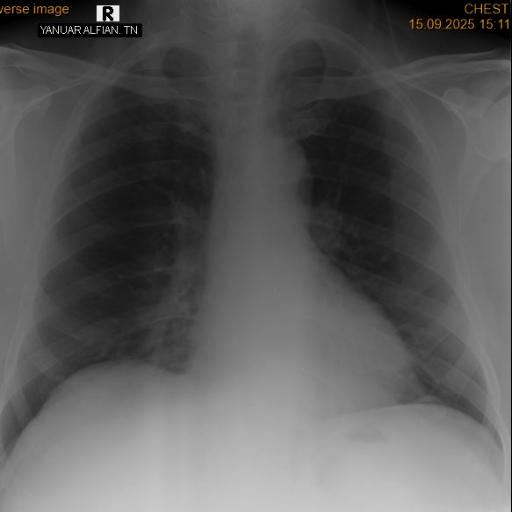kardiomegali: (0, 18, 511, 464)
